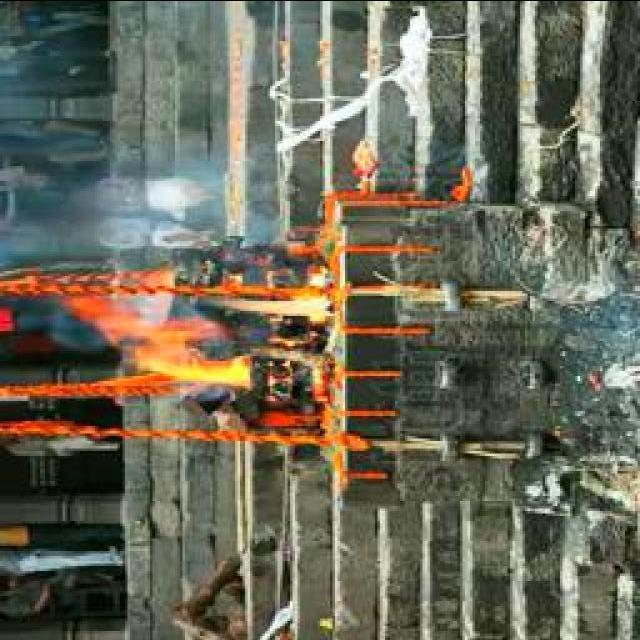Fire: (64, 288, 326, 382)
